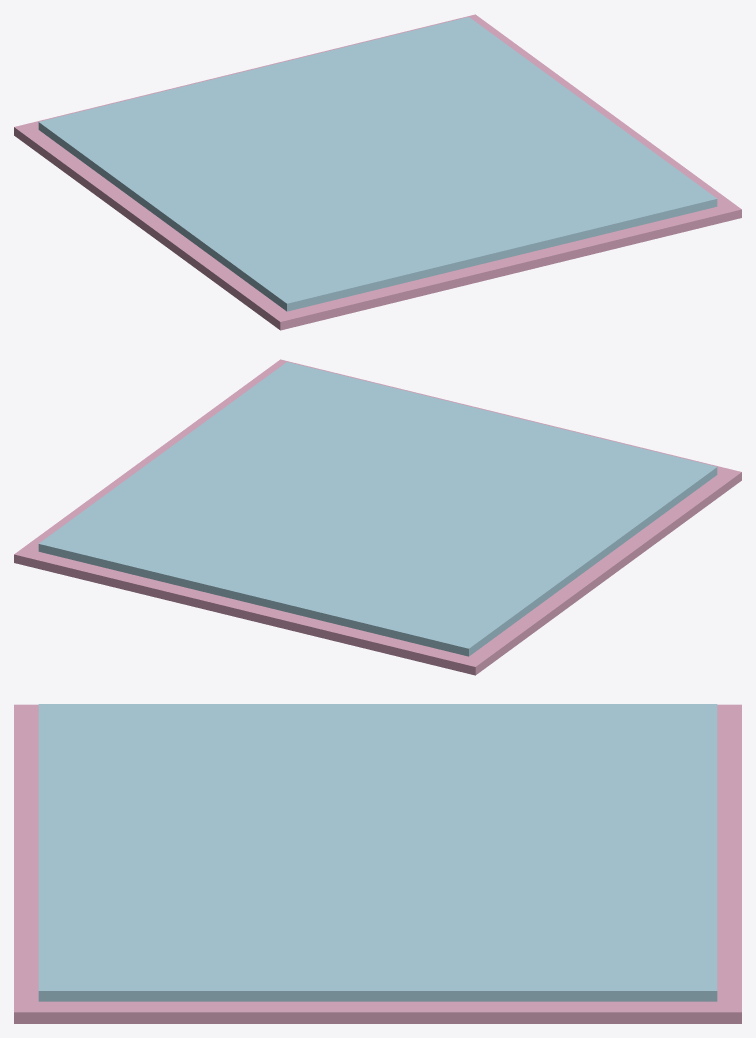
The model's file is Solar Panel.fbx.
3 renders of one model, top to bottom at view 1: azimuth 30°, elevation 25°; view 2: azimuth 150°, elevation 25°; view 3: azimuth 270°, elevation 25°, orthographic. The views are drawn at different scales.
Visible parts, largest first — view 1: PM3D_Cube3D1_5; view 2: PM3D_Cube3D1_5; view 3: PM3D_Cube3D1_5.
Boxes of the visible parts, left/top/right/bottom form: PM3D_Cube3D1_5: left=14, top=14, right=741, bottom=330; PM3D_Cube3D1_5: left=14, top=359, right=741, bottom=675; PM3D_Cube3D1_5: left=14, top=704, right=741, bottom=1023.
Size of the model in its own units: 4.29 by 0.1456 by 4.29.
